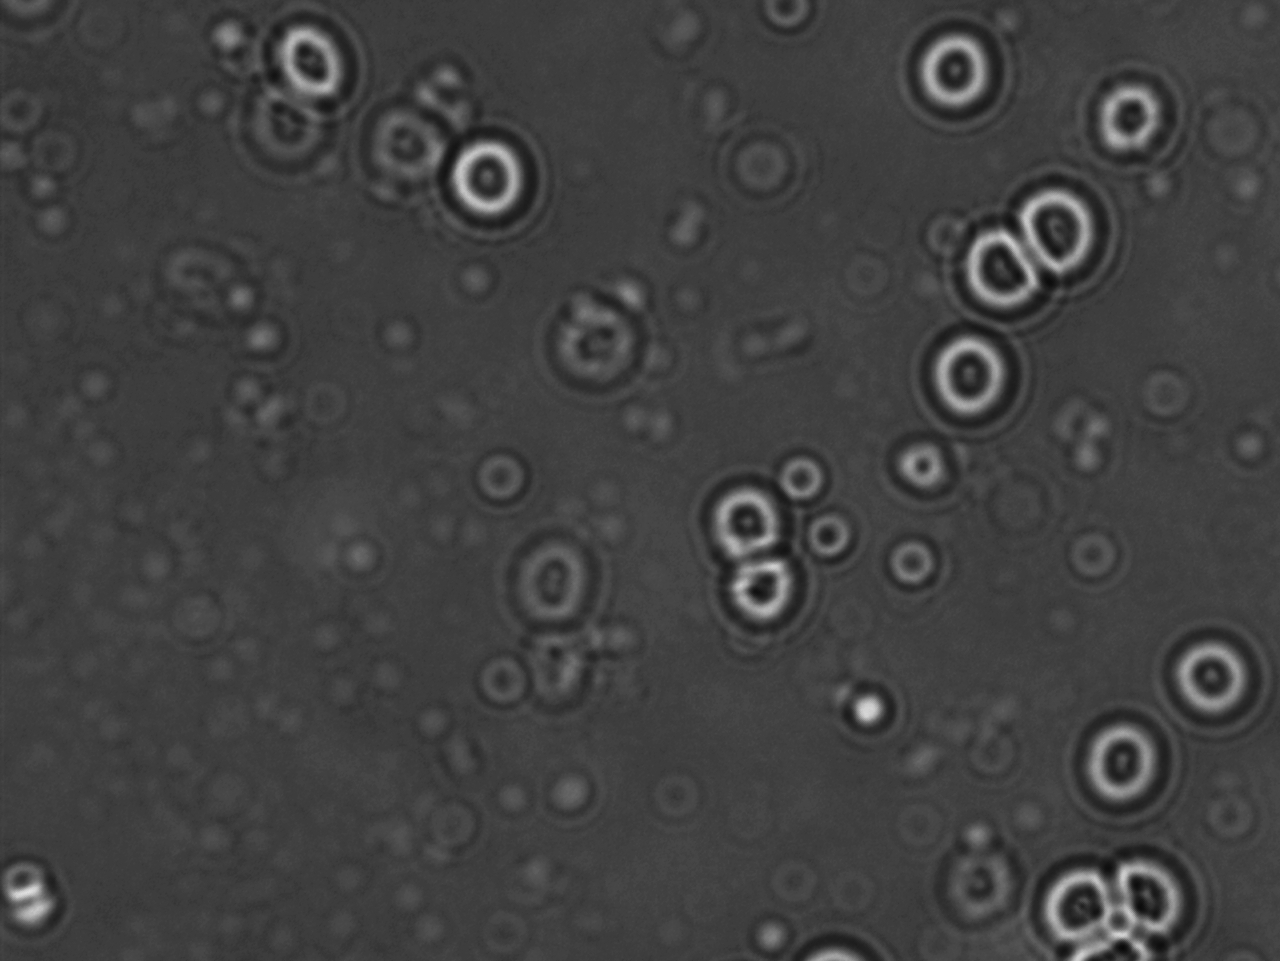depth:8: (917, 319, 1029, 438), (1158, 619, 1269, 731), (1068, 700, 1172, 817), (436, 129, 549, 235), (691, 472, 816, 568), (900, 22, 1014, 125), (949, 217, 1061, 318), (1003, 182, 1115, 283), (712, 546, 822, 646), (265, 13, 369, 118), (1103, 845, 1209, 942), (1026, 849, 1128, 948), (1083, 66, 1182, 167)
